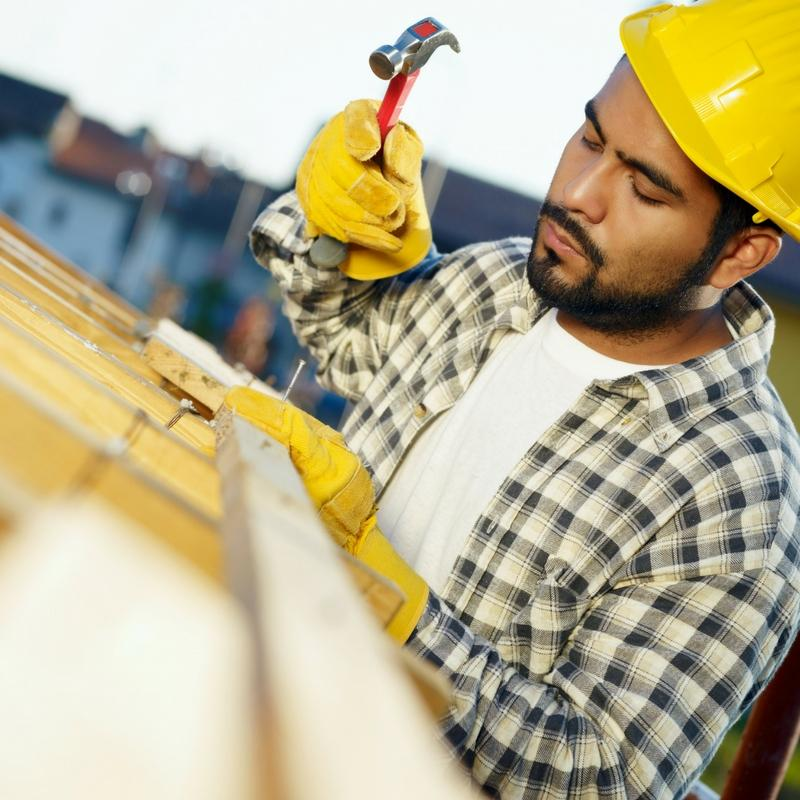helmet: (611, 1, 800, 242)
